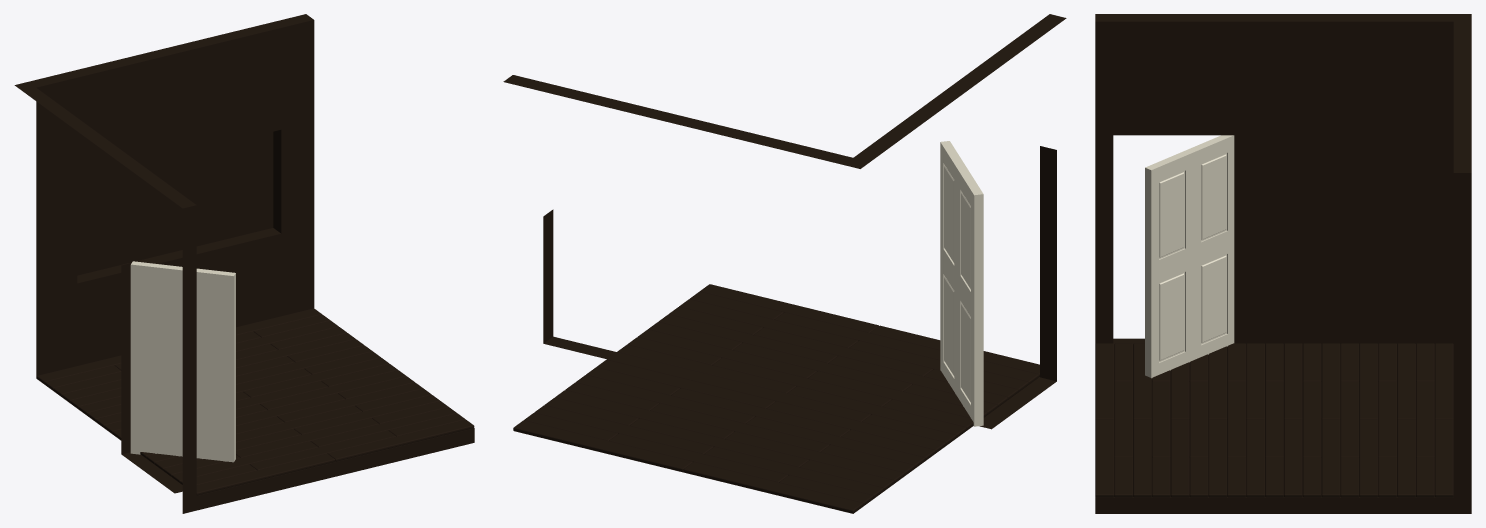
File: Door.glb
3 renders of one model, left to right at view 1: azimuth 30°, elevation 25°; view 2: azimuth 150°, elevation 25°; view 3: azimuth 270°, elevation 25°, orthographic. The views are drawn at different scales.
Parts seen in each view (by area): view 1: Cube, Plane.028, Cube.001; view 2: Plane.028, Cube, Cube.001; view 3: Cube, Plane.028, Cube.001.
Boxes of the visible parts, box(x1,y1,x2,y2) form: Cube: box(14, 14, 474, 513); Plane.028: box(36, 308, 474, 495); Cube.001: box(130, 261, 235, 462); Plane.028: box(513, 284, 1039, 513); Cube: box(503, 14, 1066, 513); Cube.001: box(940, 141, 983, 426); Cube: box(1095, 14, 1471, 513); Plane.028: box(1095, 343, 1453, 497); Cube.001: box(1145, 135, 1234, 378).
Size of the model in its own units: 2.1 by 2.1 by 2.1.
